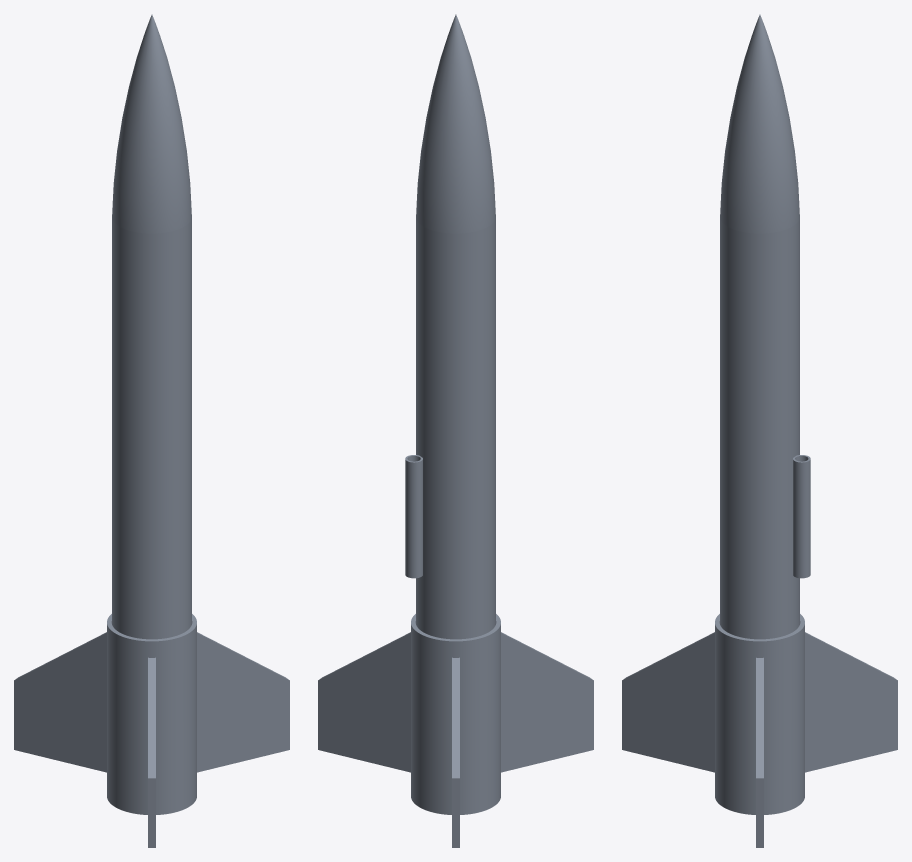
Rendered from step-4.glb.
3 renders of one model, left to right at view 1: azimuth 30°, elevation 25°; view 2: azimuth 150°, elevation 25°; view 3: azimuth 270°, elevation 25°, orthographic.
Parts seen in each view (by area): view 1: face_c10ec04866fb8ece5a7f, face_ae1fc709e6f1a2a1fdbb, face_8b58d4a90c0b8a1aa91f, face_433370cde01b1eb9ba41, face_52a289b0be338e925783, face_a4f7f2f787812a2de124, face_1d5d9baa3dbe48393f25; view 2: face_c10ec04866fb8ece5a7f, face_ae1fc709e6f1a2a1fdbb, face_8b58d4a90c0b8a1aa91f, face_2cb684508714d971b2ba, face_cda3f4000f37f0bfc1c2, face_c6a73a364aa456311ba5, face_7a74cfe903d603c42f4c, face_9bcfe81b735d2f61d6ed; view 3: face_c10ec04866fb8ece5a7f, face_ae1fc709e6f1a2a1fdbb, face_8b58d4a90c0b8a1aa91f, face_a77de4024c3f349497d5, face_656c450c765b7831a830, face_c6a73a364aa456311ba5, face_1a2507edccd04909daf3, face_706ce44c673d53129623.
Part boxes in pixels (x1,y1,x2,y2): face_c10ec04866fb8ece5a7f: [112, 218, 191, 639]; face_ae1fc709e6f1a2a1fdbb: [107, 624, 196, 814]; face_8b58d4a90c0b8a1aa91f: [112, 14, 191, 233]; face_433370cde01b1eb9ba41: [197, 633, 289, 772]; face_52a289b0be338e925783: [14, 633, 106, 772]; face_a4f7f2f787812a2de124: [148, 657, 155, 778]; face_1d5d9baa3dbe48393f25: [148, 778, 155, 847]; face_c10ec04866fb8ece5a7f: [416, 218, 495, 639]; face_ae1fc709e6f1a2a1fdbb: [411, 624, 500, 814]; face_8b58d4a90c0b8a1aa91f: [416, 14, 495, 233]; face_2cb684508714d971b2ba: [318, 633, 410, 772]; face_cda3f4000f37f0bfc1c2: [501, 633, 593, 772]; face_c6a73a364aa456311ba5: [405, 460, 422, 578]; face_7a74cfe903d603c42f4c: [452, 657, 459, 778]; face_9bcfe81b735d2f61d6ed: [452, 778, 459, 847]; face_c10ec04866fb8ece5a7f: [720, 218, 799, 639]; face_ae1fc709e6f1a2a1fdbb: [715, 624, 804, 814]; face_8b58d4a90c0b8a1aa91f: [720, 14, 799, 233]; face_a77de4024c3f349497d5: [805, 633, 897, 772]; face_656c450c765b7831a830: [622, 633, 714, 772]; face_c6a73a364aa456311ba5: [793, 460, 810, 578]; face_1a2507edccd04909daf3: [756, 657, 763, 778]; face_706ce44c673d53129623: [756, 778, 763, 847].
Bounding box in the file's own units: 0.0747 × 0.27 × 0.0863.
